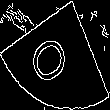O_NE: (30, 24, 80, 86)
